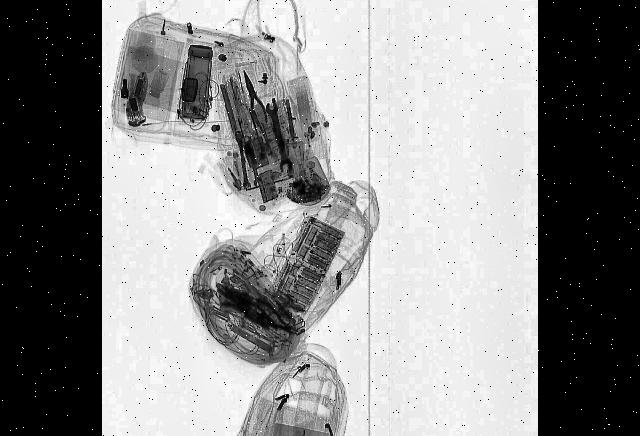Pliers: (253, 292, 300, 344), (239, 65, 269, 131)
Wrench: (266, 95, 294, 177), (244, 132, 264, 188), (236, 128, 250, 190)
